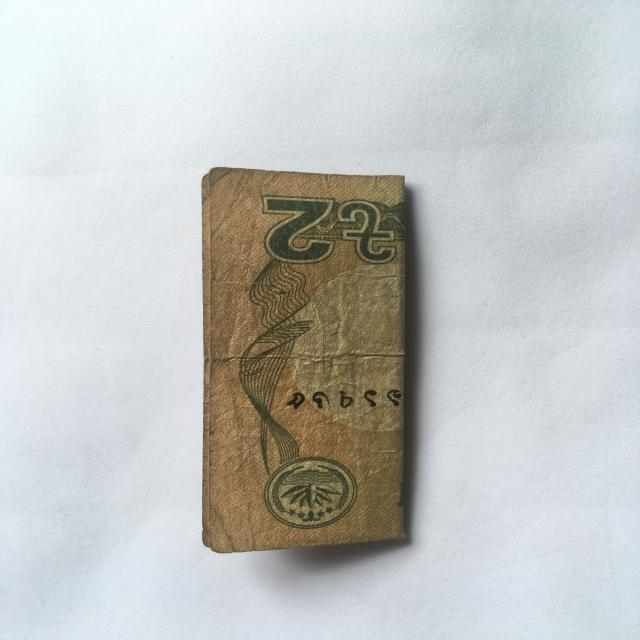Taka: (194, 159, 401, 550)
